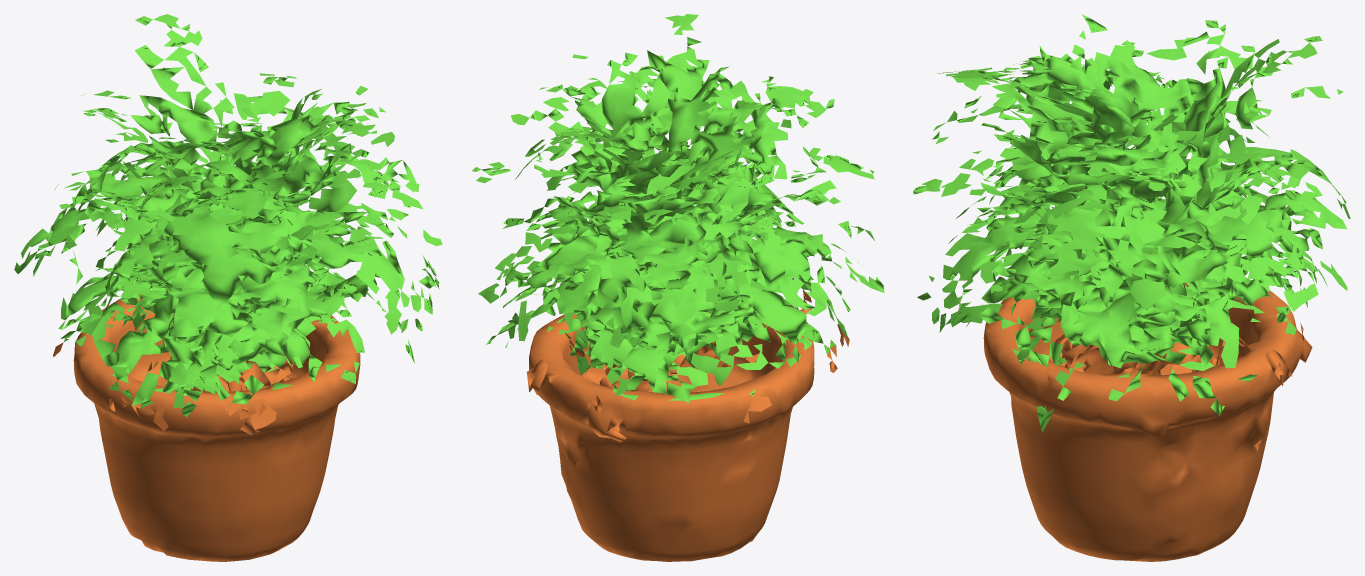
File: plante_3.glb
The picture shows the model from 3 angles, left to right: view 1: azimuth 30°, elevation 25°; view 2: azimuth 150°, elevation 25°; view 3: azimuth 270°, elevation 25°; orthographic projection. The views are drawn at different scales.
Visible parts, largest first — view 1: Mesh1; view 2: Mesh1; view 3: Mesh1.
Part boxes in pixels (bbox=[...]): Mesh1: bbox=[14, 14, 442, 561]; Mesh1: bbox=[472, 14, 884, 561]; Mesh1: bbox=[913, 14, 1350, 561].
Bounding box in the file's own units: 1.68 × 1.99 × 1.62.
